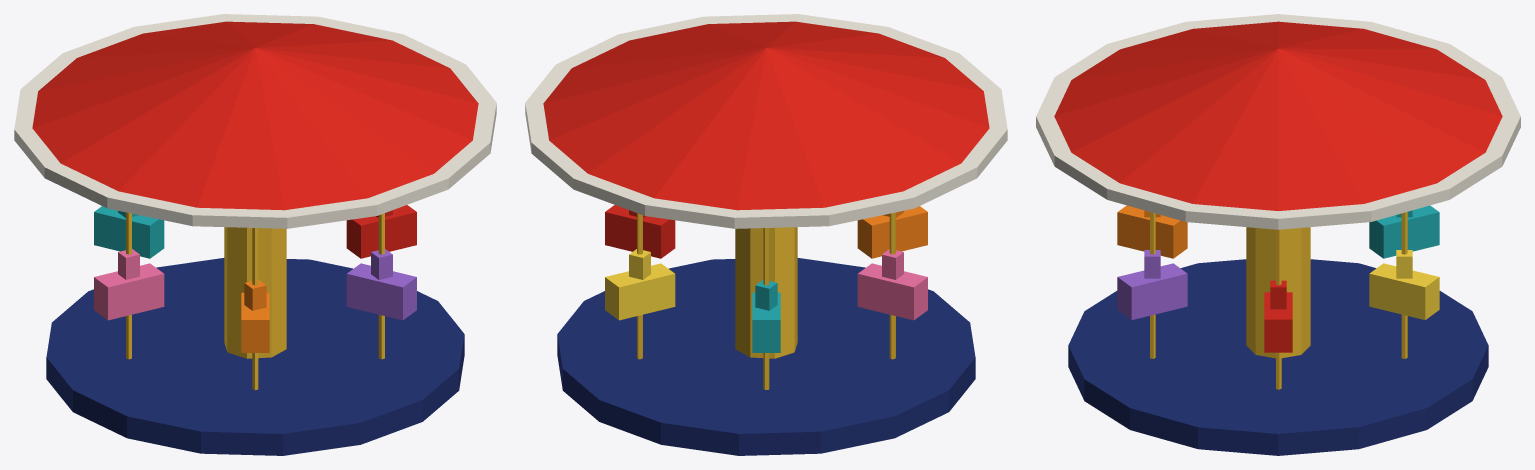
Rendered from carousel_horse_ride.glb.
3 views of the same model, side by side, from view 1: azimuth 30°, elevation 25°; view 2: azimuth 150°, elevation 25°; view 3: azimuth 270°, elevation 25° (orthographic).
Visible parts, largest first — view 1: carousel_horse_ride; view 2: carousel_horse_ride; view 3: carousel_horse_ride.
Part boxes in pixels (x1,y1,x2,y2): carousel_horse_ride: (14,14,496,455); carousel_horse_ride: (525,14,1007,455); carousel_horse_ride: (1036,14,1520,455).
Bounding box in the file's own units: 6 × 4.35 × 6.
